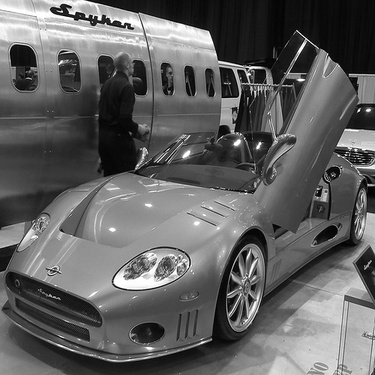car: (9, 85, 368, 361)
